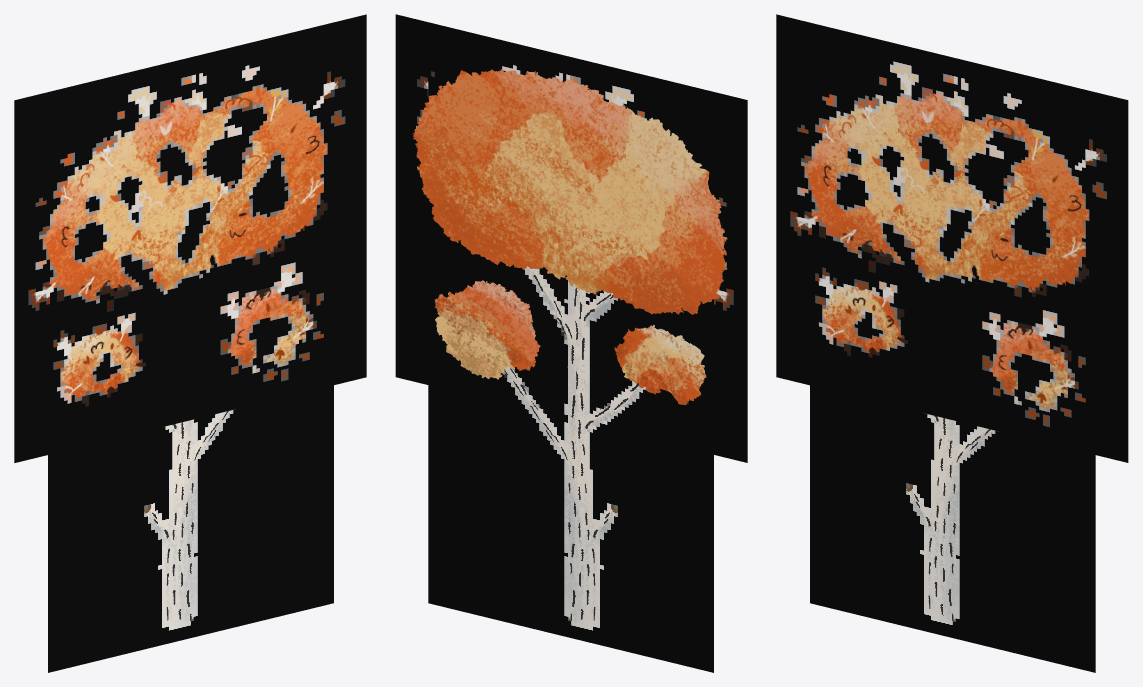
File: tree_1.glb
3 views of the same model, side by side, from view 1: azimuth 30°, elevation 25°; view 2: azimuth 150°, elevation 25°; view 3: azimuth 330°, elevation 25° (orthographic).
Visible parts, largest first — view 1: tree_1_green_foreground, tree_1_stem; view 2: tree_1_stem, tree_1_green_background, tree_1_green_foreground; view 3: tree_1_green_foreground, tree_1_stem.
Part boxes in pixels (x1,y1,x2,y2): tree_1_green_foreground: [14, 14, 366, 462]; tree_1_stem: [48, 385, 333, 672]; tree_1_stem: [428, 75, 713, 672]; tree_1_green_background: [412, 69, 727, 405]; tree_1_green_foreground: [395, 14, 747, 462]; tree_1_green_foreground: [776, 14, 1128, 462]; tree_1_stem: [810, 385, 1095, 672].
Bounding box in the file's own units: 2.79 × 4.39 × 0.00176.
Materials: 3 (3 with a texture image).
